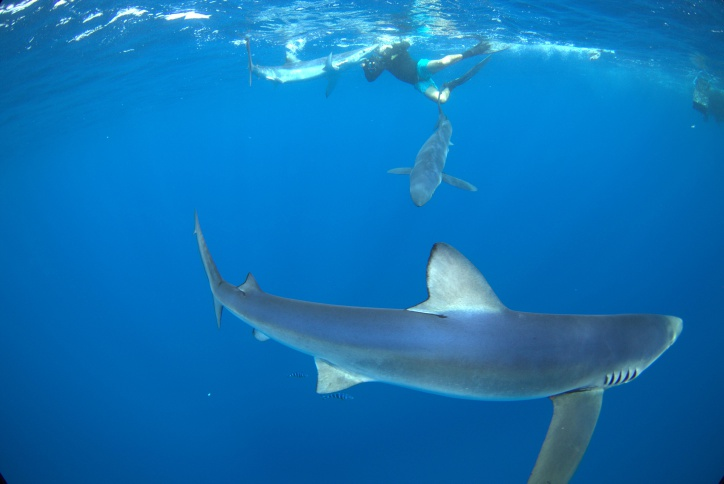Azul: (182, 203, 686, 484)
